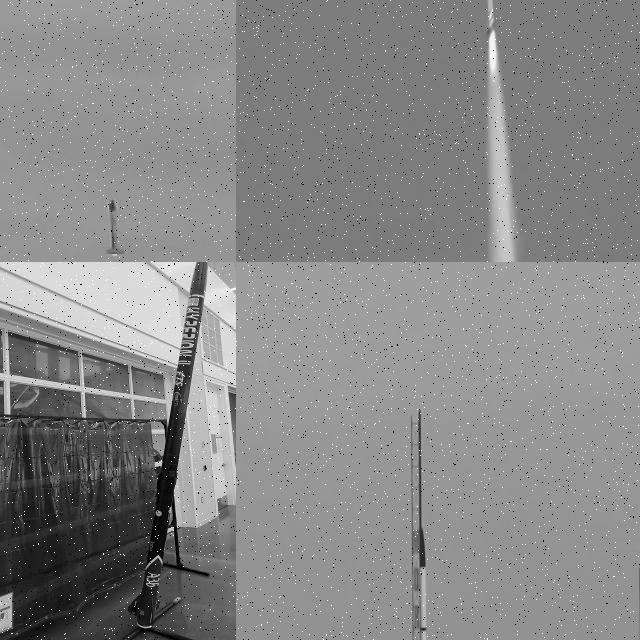Rocket: (127, 262, 209, 627), (412, 526, 436, 640), (106, 198, 125, 256), (485, 0, 497, 34)
